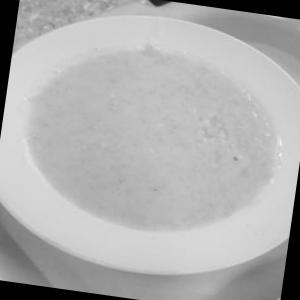porridge: (7, 19, 300, 259)
